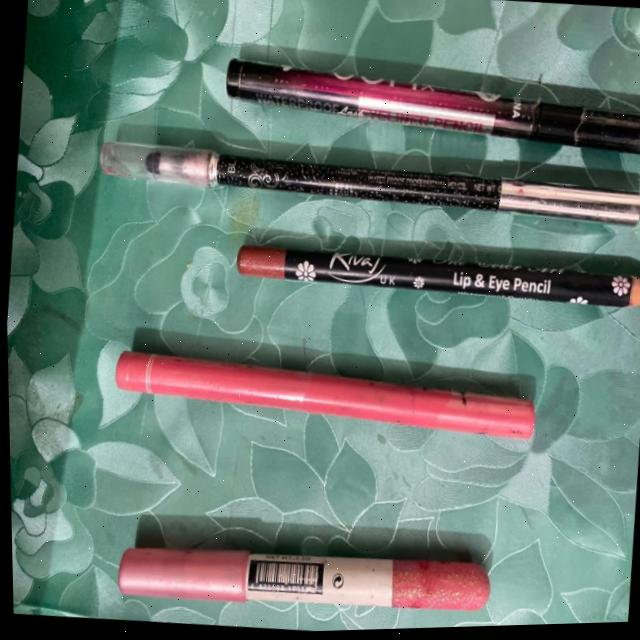eye liner: (80, 113, 640, 255), (190, 21, 640, 183)
lip liner: (93, 313, 553, 484), (211, 219, 640, 354), (90, 506, 500, 638)
